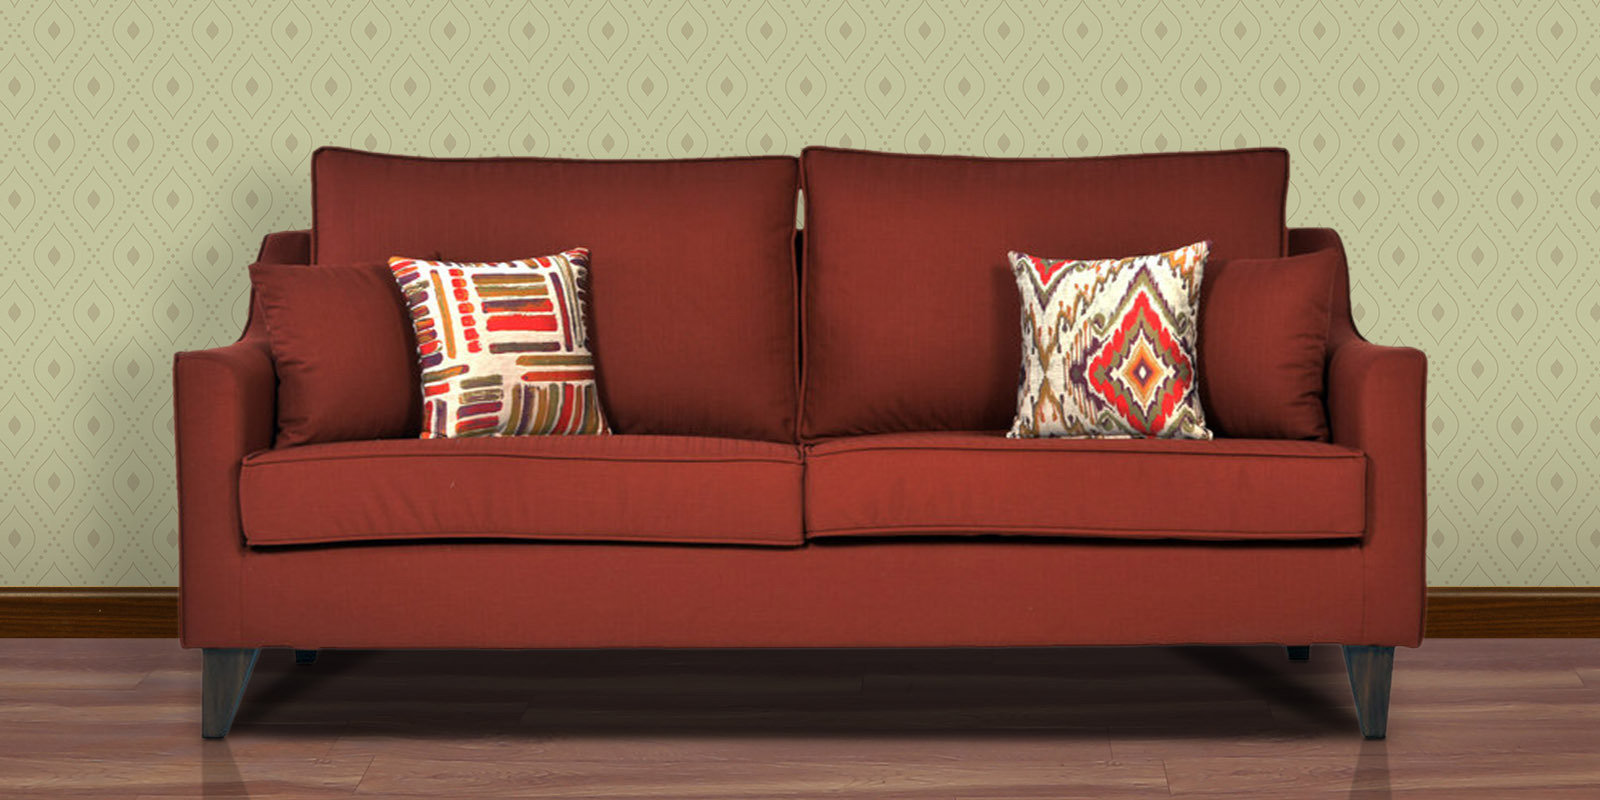Ithaca Impulse Three Seater Sofa with Throw Cushions in Burnt Sienna Colour by U: (150, 121, 1472, 760)
